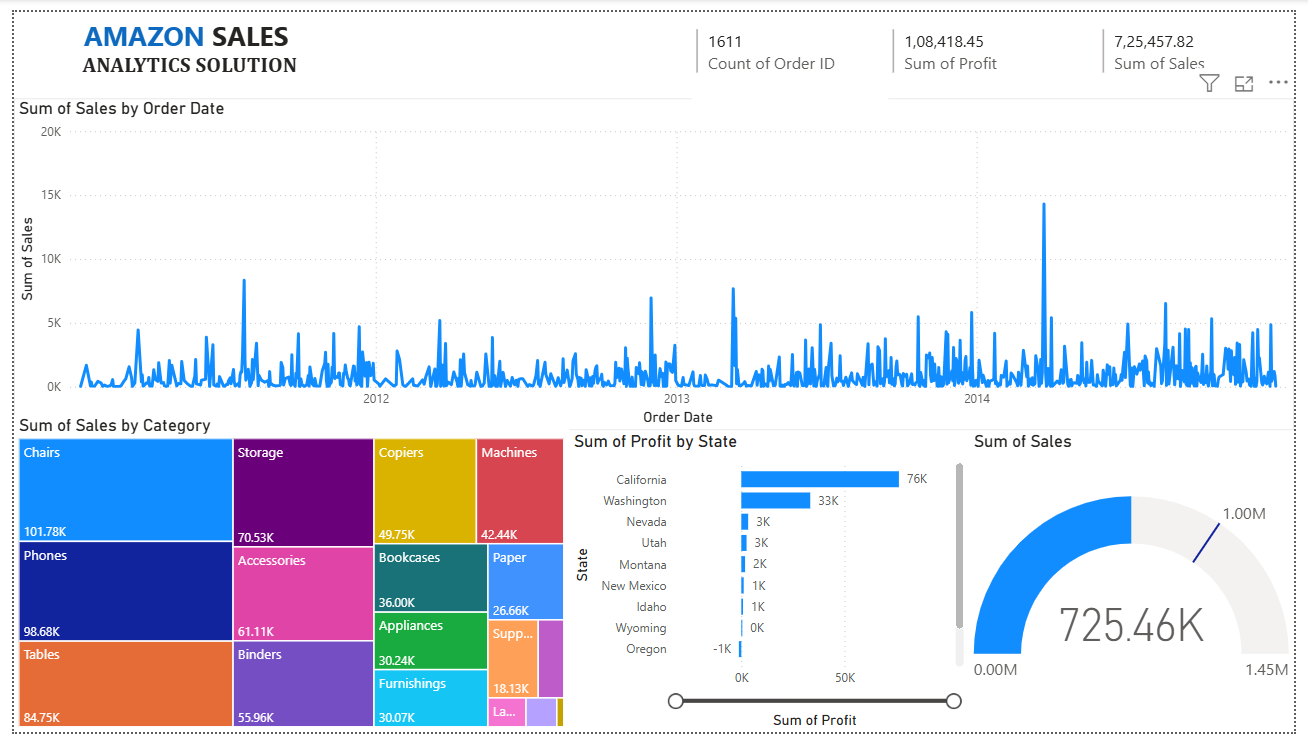

What the dashboard file says about the page in this screenshot:
{"tool":"powerbi","page":{"name":"Page 1","canvas":[1280,720],"ordinal":0},"visuals":[{"type":"multiRowCard","fields":{"Values":["Sum(Walmart.Sales)"]},"box":[1083.8,12.5,196.2,100],"z":0},{"type":"multiRowCard","fields":{"Values":["Sum(Walmart.Profit)"]},"box":[873.8,12.5,210,100],"z":1000},{"type":"textbox","box":[150,253,300,300],"z":2000},{"type":"textbox","box":[150,563,300,157],"z":3000},{"type":"lineChart","fields":{"Category":["Walmart.Order Date"],"Y":["Sum(Walmart.Sales)"]},"box":[0,86.2,1280,332.5],"z":4000},{"type":"treemap","fields":{"Group":["Walmart.Category"],"Values":["Sum(Walmart.Sales)"]},"box":[0,402.5,555,317.5],"z":5000},{"type":"barChart","fields":{"Category":["Walmart.State"],"Y":["Sum(Walmart.Profit)"]},"box":[554.7,418.6,400,301.2],"z":6000},{"type":"gauge","fields":{"Y":["Sum(Walmart.Sales)"]},"box":[955,418.8,325,301.2],"z":7000},{"type":"textbox","box":[14.7,0,321.6,74.6],"z":8000},{"type":"multiRowCard","fields":{"Values":["Count(Walmart.Order ID)"]},"box":[677.4,12.2,196.9,95.4],"z":9000}]}

Visuals, with their boxes in screenshot pixels (x1, y1, x2, y2), scaled from the page's 1280x720 canvas onto the 1308x744 screenshot:
multiRowCard - Sum(Walmart.Sales): crop(1108, 13, 1307, 116)
multiRowCard - Sum(Walmart.Profit): crop(893, 13, 1108, 116)
textbox: crop(153, 261, 460, 571)
textbox: crop(153, 582, 460, 743)
lineChart - Walmart.Order Date x Sum(Walmart.Sales): crop(0, 89, 1307, 433)
treemap - Walmart.Category x Sum(Walmart.Sales): crop(0, 416, 567, 743)
barChart - Walmart.State x Sum(Walmart.Profit): crop(567, 433, 976, 743)
gauge - Sum(Walmart.Sales): crop(976, 433, 1307, 743)
textbox: crop(15, 0, 344, 77)
multiRowCard - Count(Walmart.Order ID): crop(692, 13, 893, 111)
